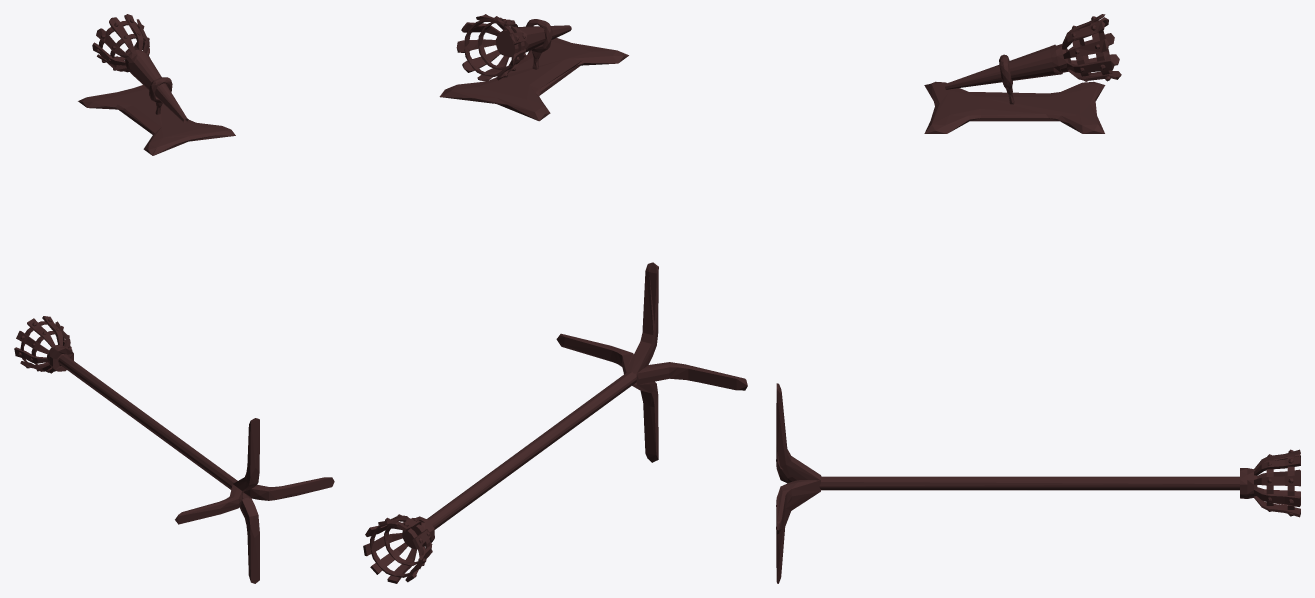
The model's file is torch.FBX.
3 renders of one model, left to right at view 1: azimuth 30°, elevation 25°; view 2: azimuth 150°, elevation 25°; view 3: azimuth 270°, elevation 25°, orthographic. The views are drawn at different scales.
Parts seen in each view (by area): view 1: torch_stand, torch; view 2: torch_stand, torch; view 3: torch_stand, torch.
Part boxes in pixels (x1=…): torch_stand: x1=14, y1=316, x2=334, y2=583; torch: x1=78, y1=14, x2=235, y2=155; torch_stand: x1=363, y1=262, x2=747, y2=583; torch: x1=439, y1=14, x2=628, y2=121; torch_stand: x1=776, y1=383, x2=1300, y2=583; torch: x1=924, y1=14, x2=1121, y2=133.
Size of the model in its own units: 60.4 by 170 by 143.
